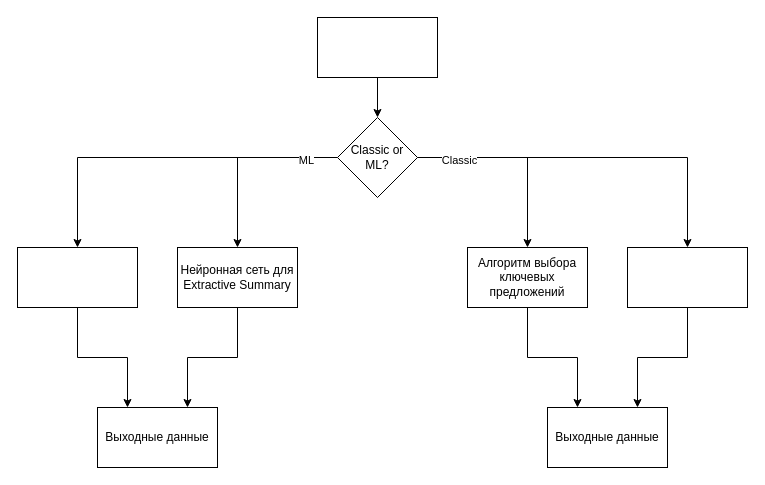
Some shapes in this 765 by 485 pixel diagram are drawn without their labels. The shapes that lost their labels are listed below. From the top down, each one's centre as x and y in pixels, then its label:
point 377,47: Входные данные
point 77,277: Нейронная сеть для Abstract Summary
point 687,277: Алгоритм выбора ключевых слов
